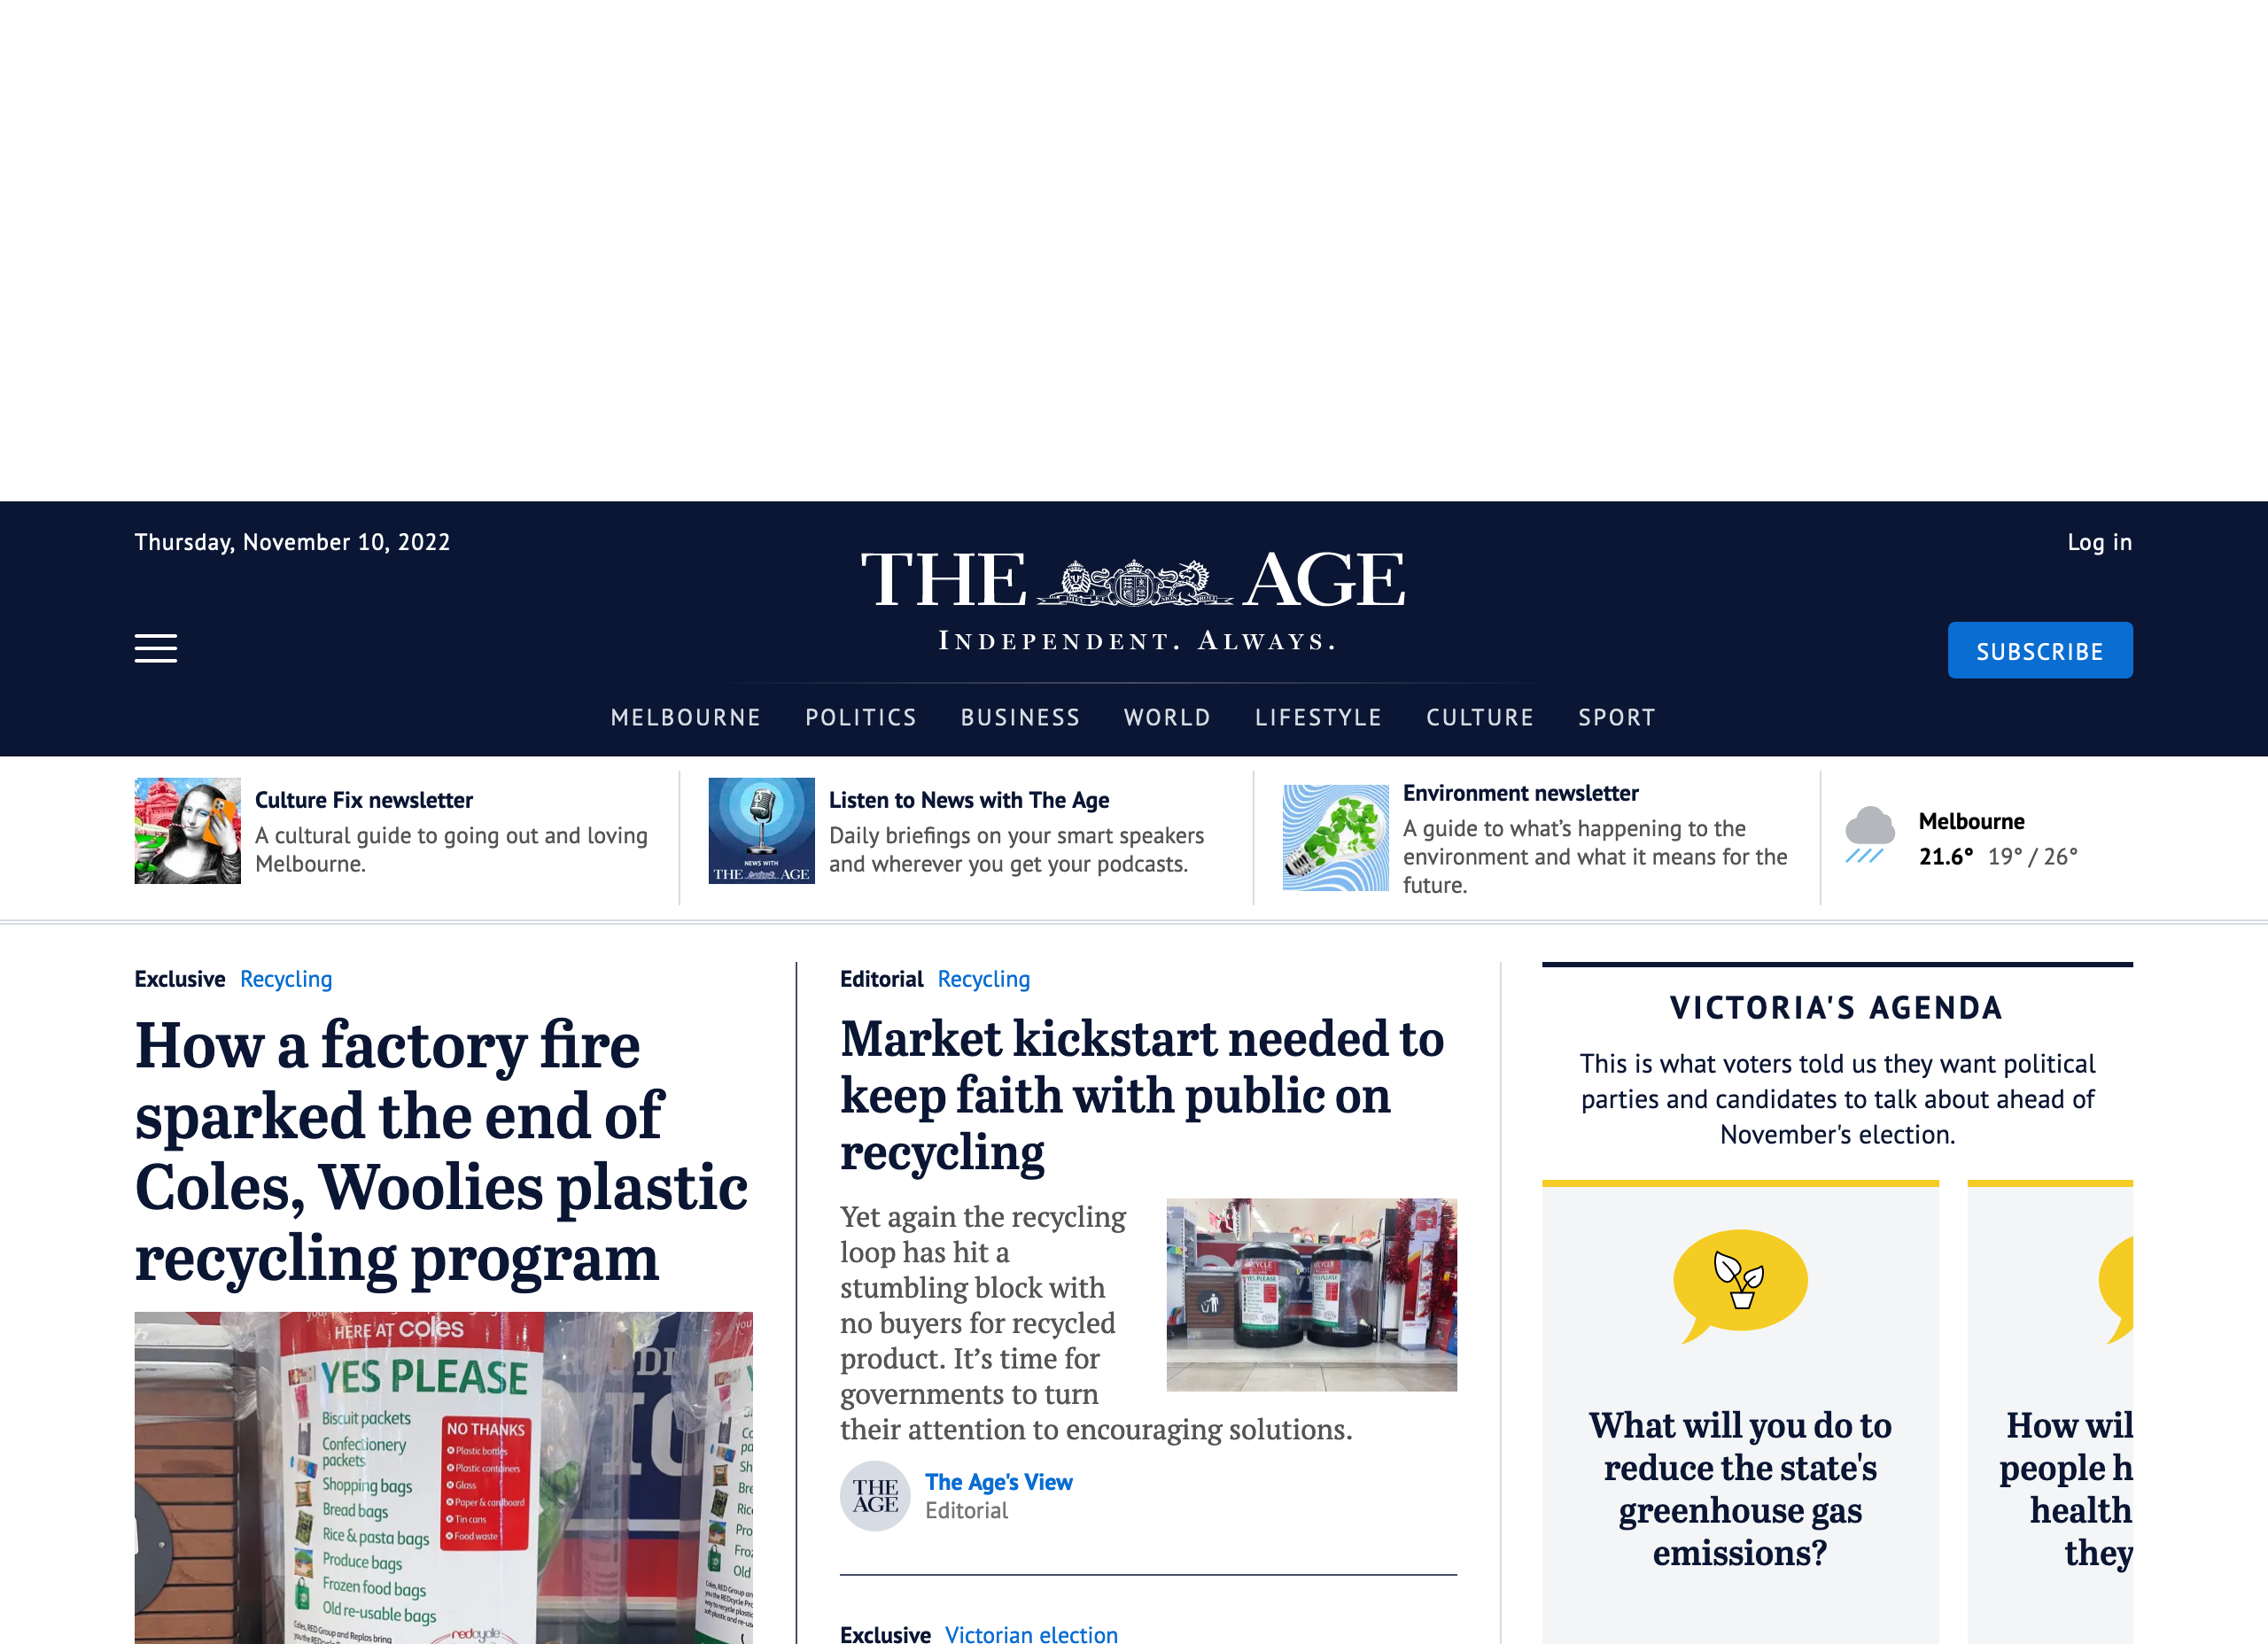Login: (2041, 525, 2148, 572)
